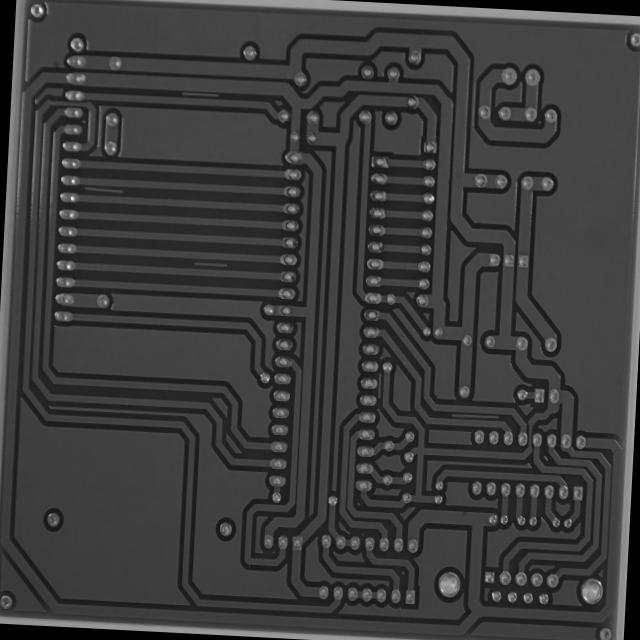spurious_copper: (450, 409, 501, 427), (177, 86, 222, 105), (82, 183, 126, 198), (190, 258, 230, 272), (374, 368, 386, 403)
